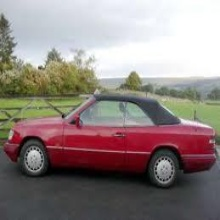no damage: (4, 92, 217, 189)
